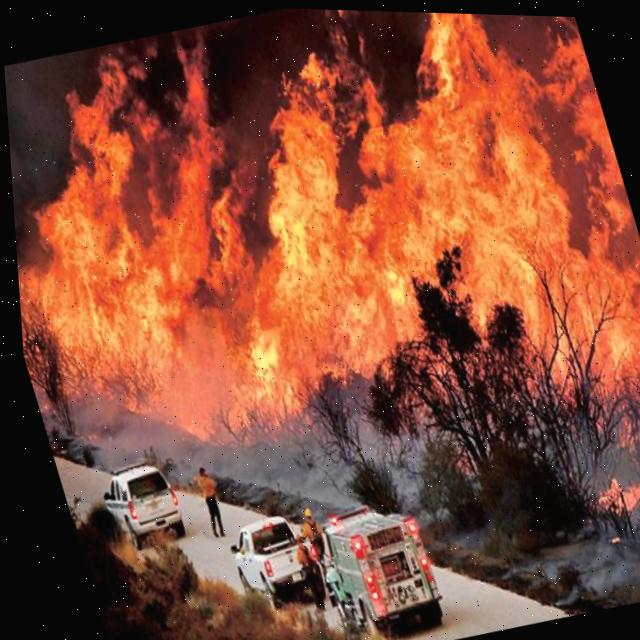fire: (14, 8, 640, 434)
